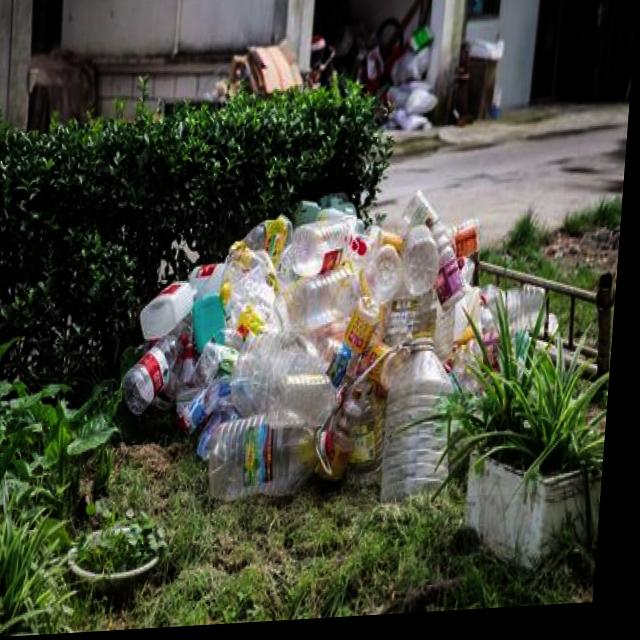garbage: (120, 185, 568, 519)
